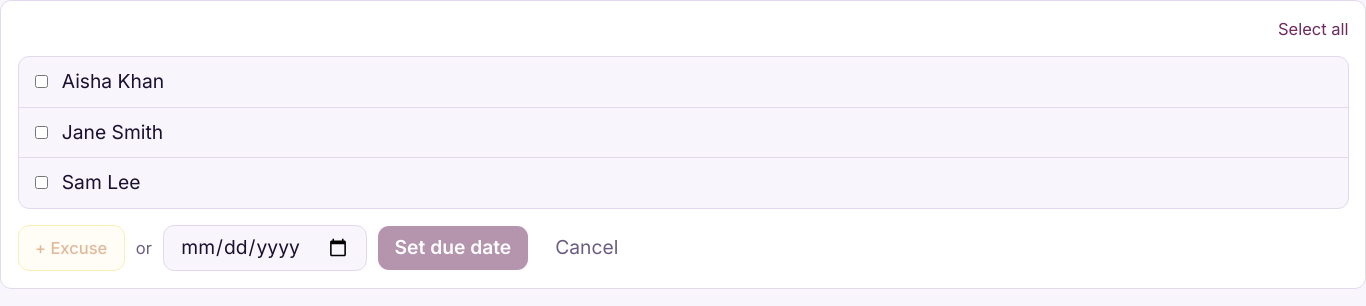
Test case: OverrideStudentChecklist › sets a due date for the ticked students, and Select all toggles everyone
Click the button "Select all" at (1313, 28), box [1278,18,1348,40]
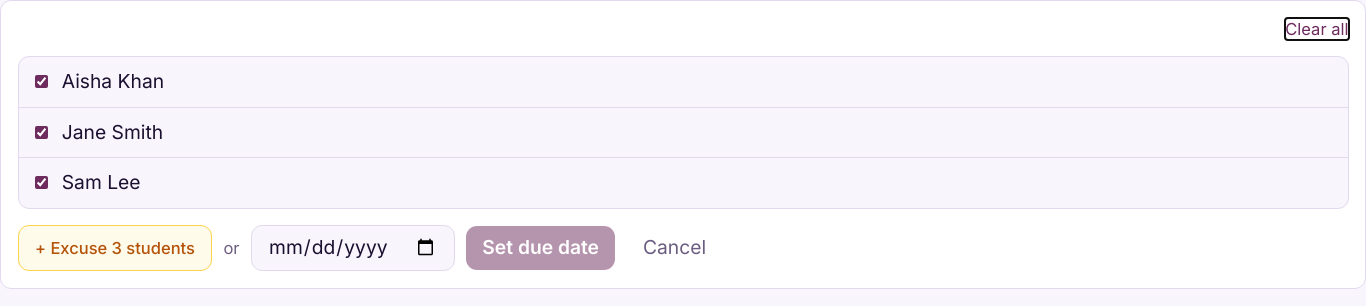
Expected: the button "Set due date" is disabled, [466,226,615,270]
Expected: the button "+ Excuse 3 students" is enabled, [18,225,212,271]
Type "2026-10-20" into the date field named "Custom due date for selected students" at (353, 248), box [251,225,455,271]
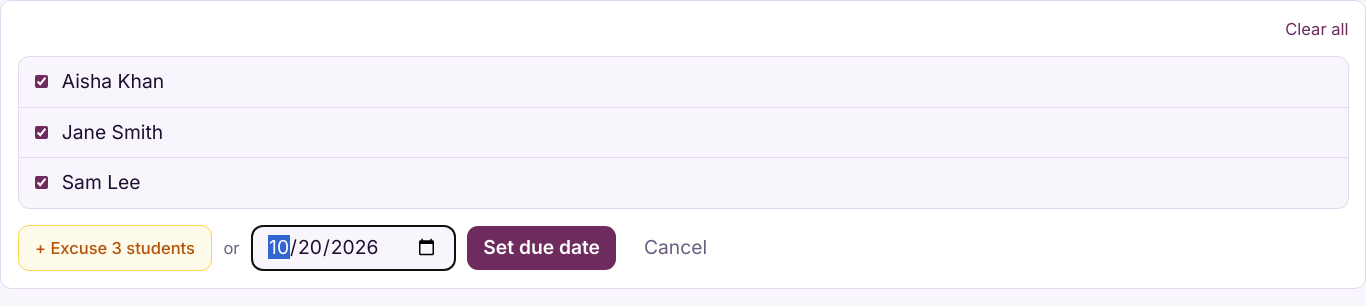
Click the button "Set due date" at (542, 248), box [467,226,616,270]
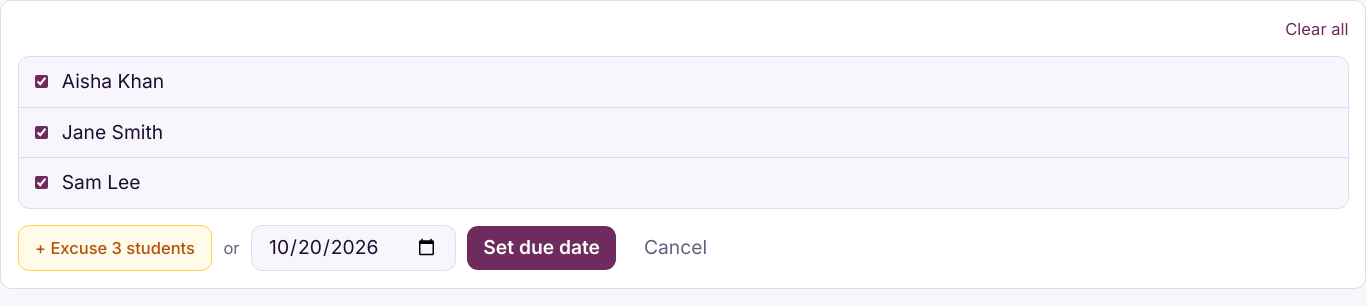
Click the button "Clear all" at (1317, 28), box [1285,18,1348,40]
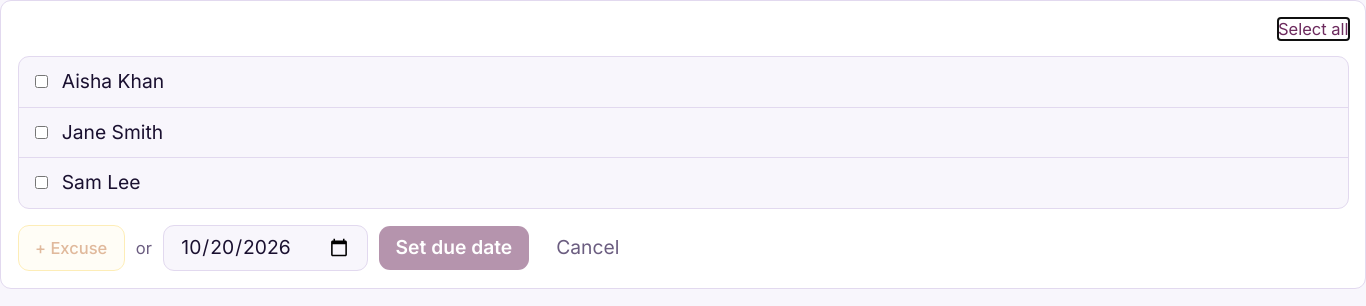
Expected: the button "+ Excuse" is disabled, [18,225,125,271]
